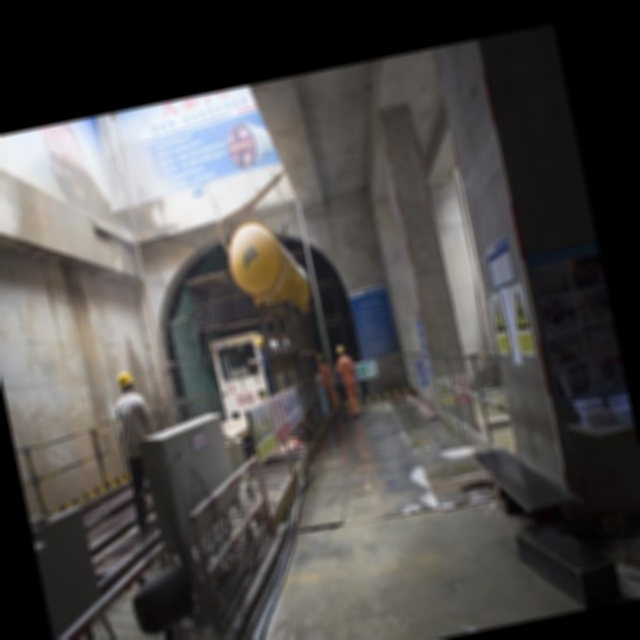Con_Casco: (117, 370, 137, 396), (336, 344, 345, 358)
